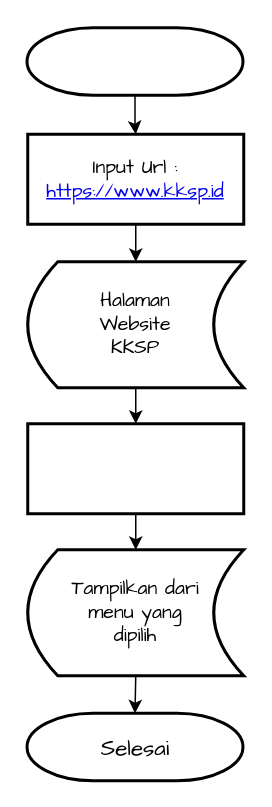
The diagram is 272 pixels wide and 807 high, and some of its shapes have lost their labels. Here are the shapes that lost their labels. From the top down, the centre of each, then its label:
At point (134, 61): "Mulai".
At point (135, 468): "Memilih menu pada website".
